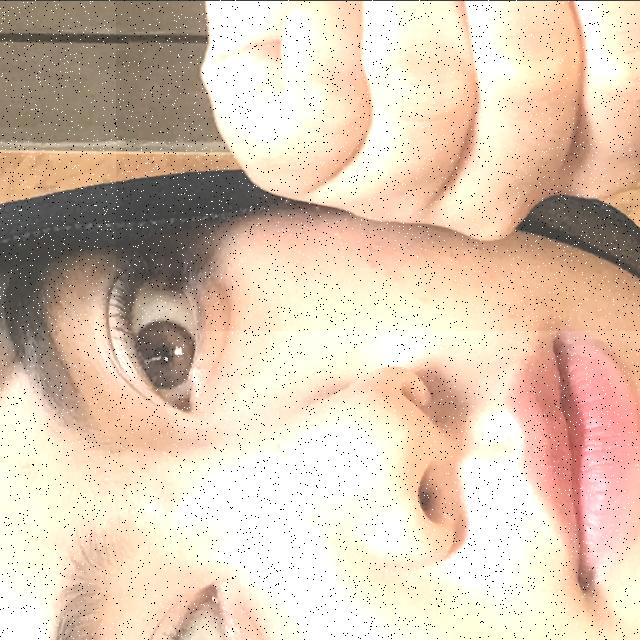sedih: (116, 0, 640, 330)
